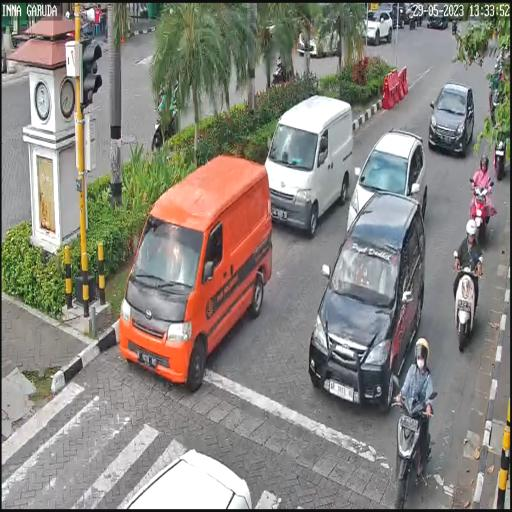mobil: (120, 159, 273, 387), (311, 192, 426, 412), (265, 92, 353, 233), (350, 124, 429, 237), (428, 82, 472, 162)
motor: (391, 372, 437, 508), (450, 248, 484, 352), (468, 174, 495, 237)
